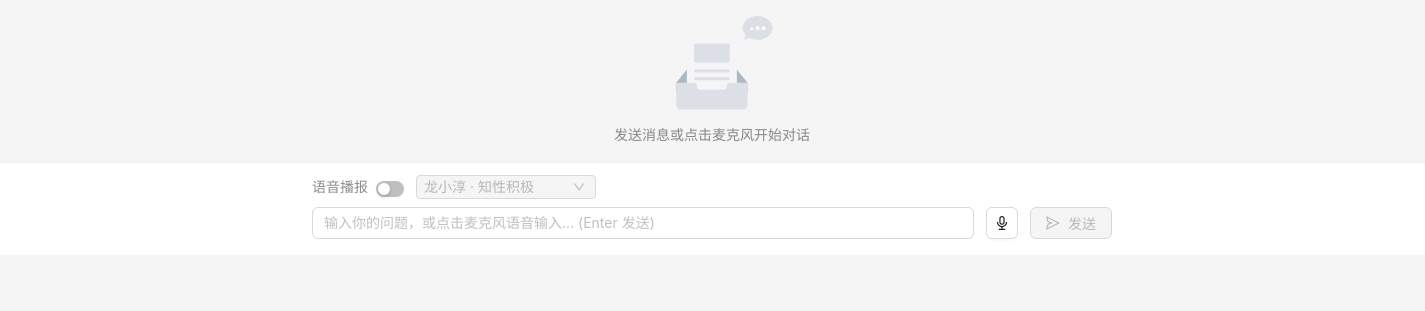
Test: ChatPage voice controls › plays tts after reply when switch enabled
Click the switch.
click(390, 189)  # box [376, 181, 404, 197]
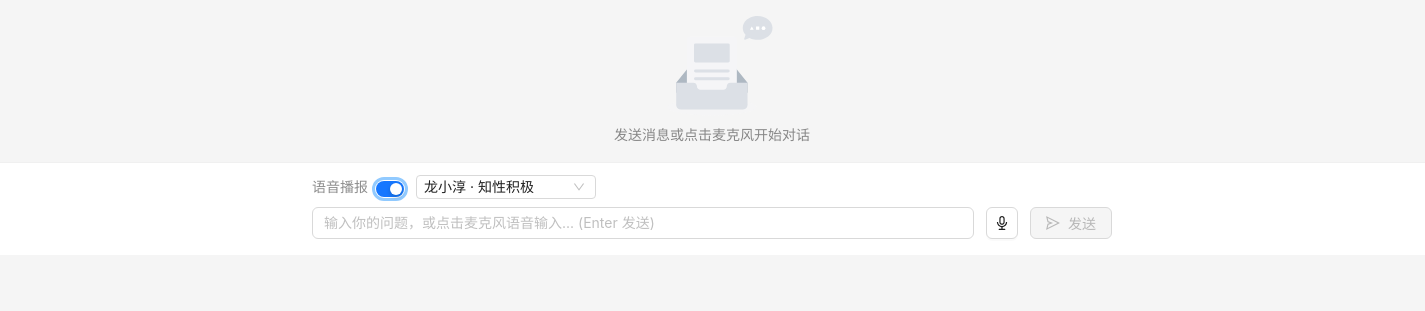
Type "播报测试" into the text box with placeholder "输入你的问题，或点击麦克风语音输入... (Enter 发送)".
click(643, 223); type("播报测试")  # box [312, 207, 974, 239]
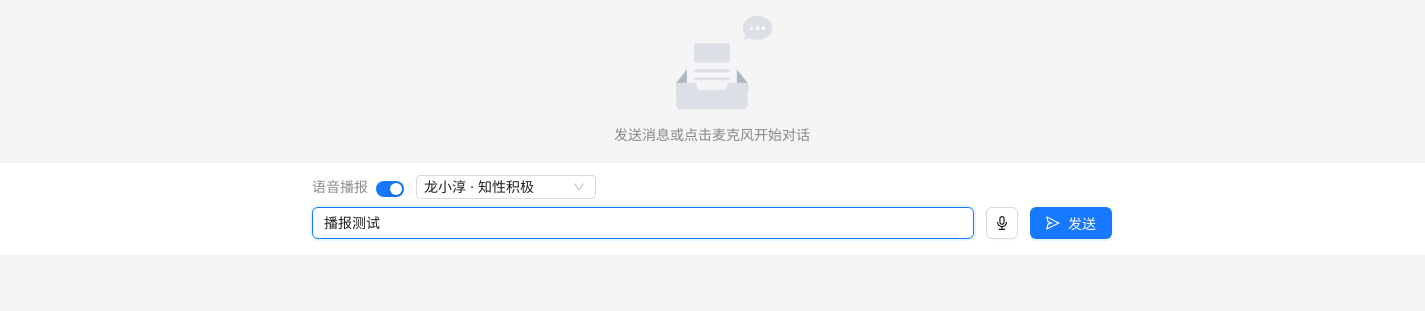
Click the button "发送".
click(1071, 223)  # box [1030, 207, 1112, 239]
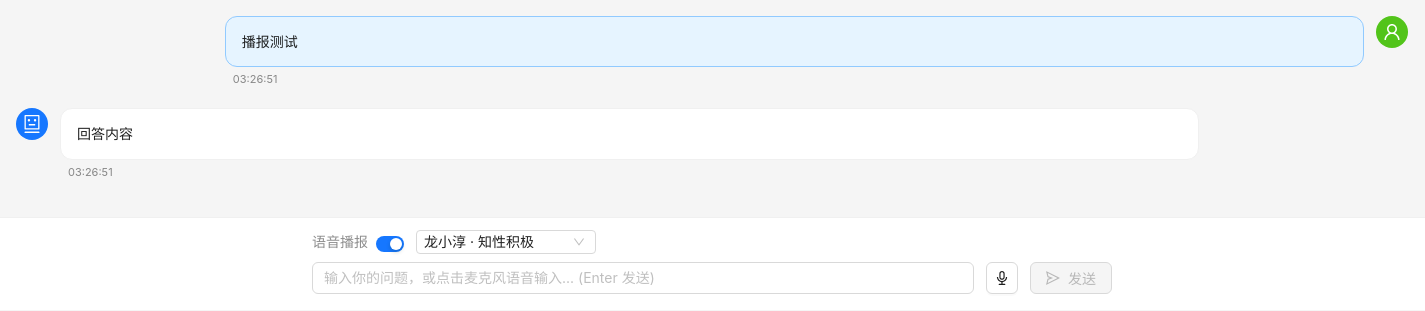
Expected: the text "回答内容" is shown, [77, 126, 133, 142]
